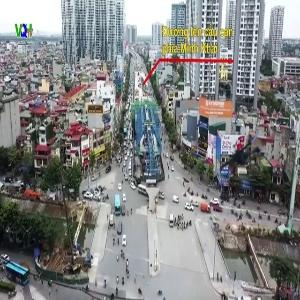drone: (209, 122, 270, 183)
